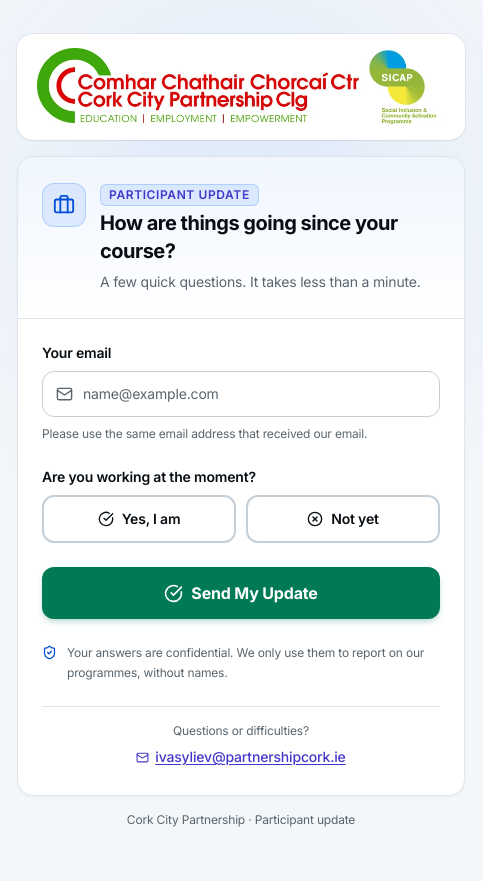
StatusUpdatePage › shows the server message when the email is not found
This screenshot has width=483, height=881.
Type "anna@example.com" into the field labelled "Your email" at (241, 394), box [42, 371, 440, 417]
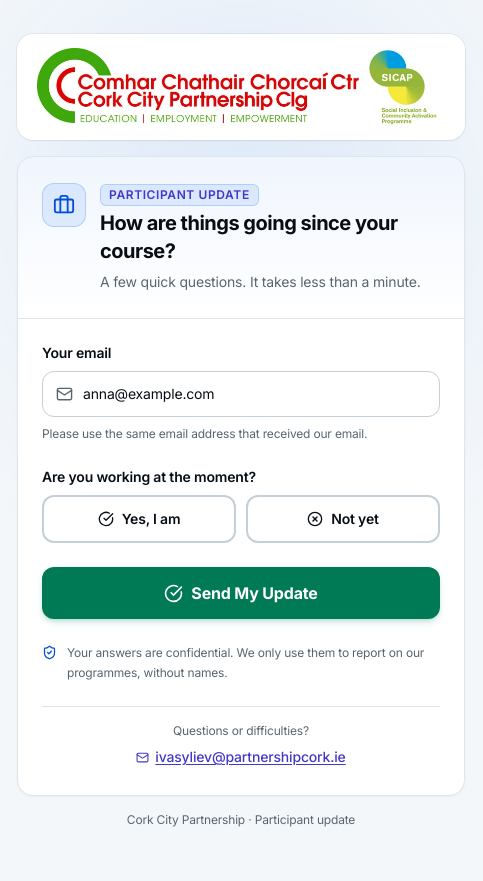
Click the button "Not yet" at (343, 519), box [246, 495, 440, 543]
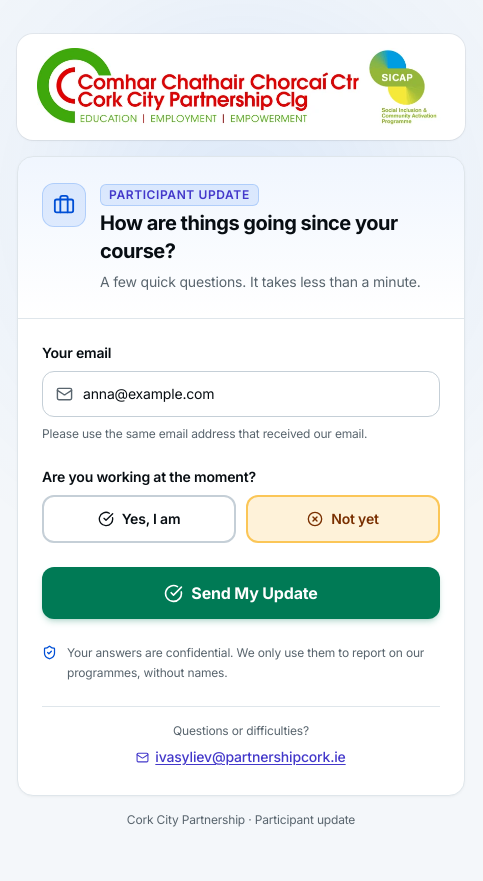
Click the button "Send My Update" at (241, 593), box [42, 567, 440, 619]
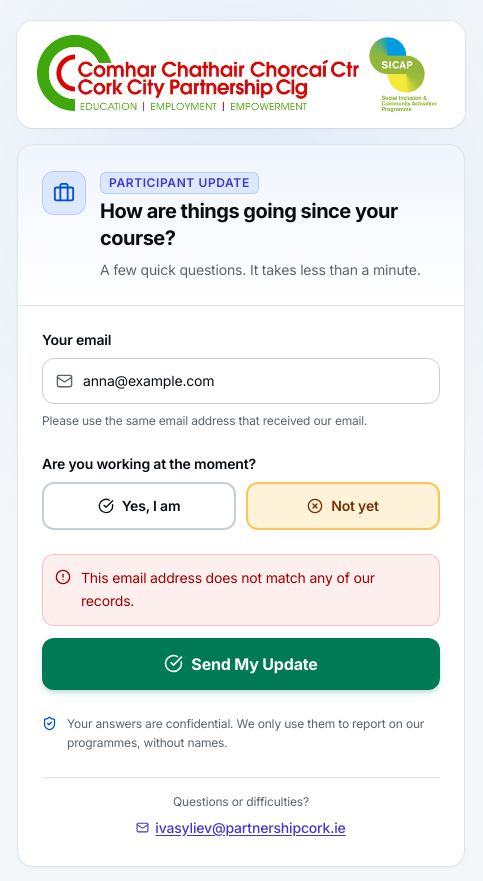
Check: the message shows "does not match", box [81, 569, 375, 609]
